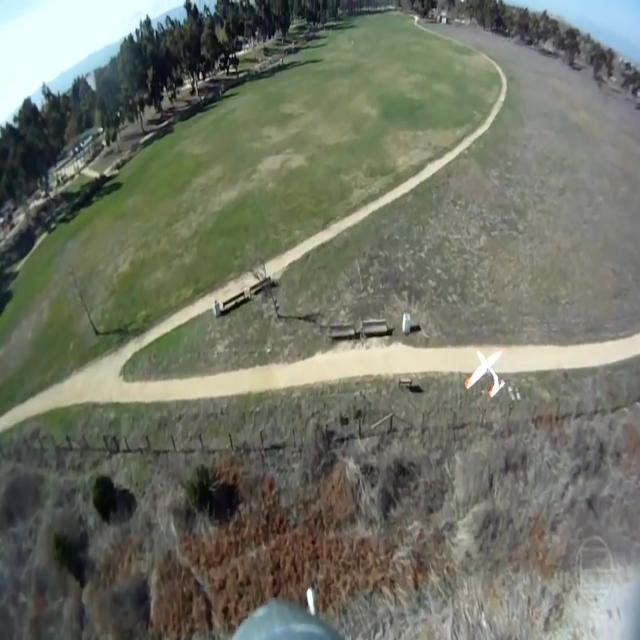iha: (464, 344, 506, 399)
